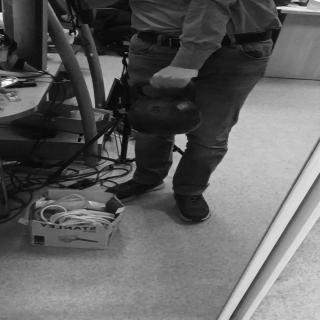kettlebell: (125, 79, 205, 136)
